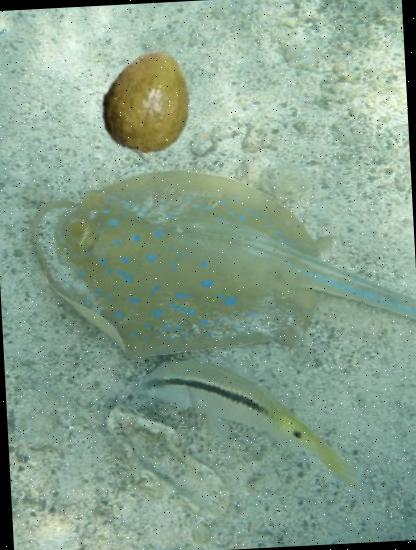Guava: (92, 47, 200, 154)
